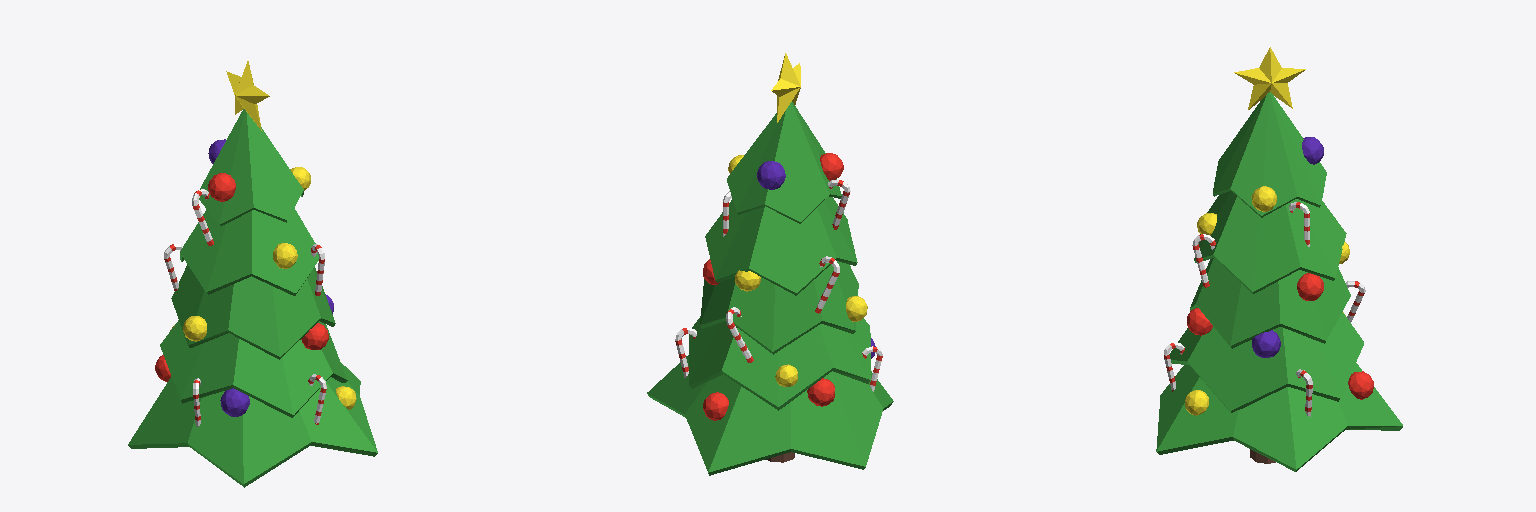
The picture shows the model from 3 angles: view 1: azimuth 30°, elevation 25°; view 2: azimuth 150°, elevation 25°; view 3: azimuth 270°, elevation 25°; orthographic projection.
Parts seen in each view (by area): view 1: group[number redacted], group[number redacted], group[number redacted], group[number redacted], group[number redacted], group[number redacted], group[number redacted], group[number redacted]; view 2: group[number redacted], group[number redacted], group[number redacted], group[number redacted], group[number redacted], group[number redacted], group[number redacted], group[number redacted], group[number redacted]; view 3: group[number redacted], group[number redacted], group[number redacted], group[number redacted], group[number redacted], group[number redacted], group[number redacted], group[number redacted], group[number redacted].
Part boxes in pixels (left/top/right/bottom): group[number redacted]: left=128, top=363, right=377, bottom=487; group[number redacted]: left=160, top=320, right=347, bottom=417; group[number redacted]: left=171, top=264, right=335, bottom=359; group[number redacted]: left=180, top=208, right=318, bottom=295; group[number redacted]: left=199, top=109, right=303, bottom=225; group[number redacted]: left=226, top=61, right=269, bottom=130; group[number redacted]: left=220, top=388, right=249, bottom=416; group[number redacted]: left=208, top=173, right=235, bottom=201; group[number redacted]: left=647, top=355, right=893, bottom=475; group[number redacted]: left=689, top=316, right=870, bottom=410; group[number redacted]: left=705, top=196, right=857, bottom=295; group[number redacted]: left=700, top=261, right=858, bottom=354; group[number redacted]: left=727, top=102, right=841, bottom=223; group[number redacted]: left=771, top=53, right=800, bottom=122; group[number redacted]: left=757, top=161, right=785, bottom=189; group[number redacted]: left=807, top=378, right=834, bottom=406; group[number redacted]: left=703, top=392, right=728, bottom=420; group[number redacted]: left=1156, top=363, right=1402, bottom=471; group[number redacted]: left=1169, top=312, right=1363, bottom=412; group[number redacted]: left=1194, top=191, right=1346, bottom=293; group[number redacted]: left=1190, top=258, right=1350, bottom=348; group[number redacted]: left=1213, top=92, right=1326, bottom=217; group[number redacted]: left=1234, top=47, right=1305, bottom=109; group[number redacted]: left=1252, top=330, right=1280, bottom=357; group[number redacted]: left=1297, top=273, right=1323, bottom=300; group[number redacted]: left=1348, top=371, right=1373, bottom=399.
Size of the model in its own units: 0.8953 by 1.54 by 0.848.